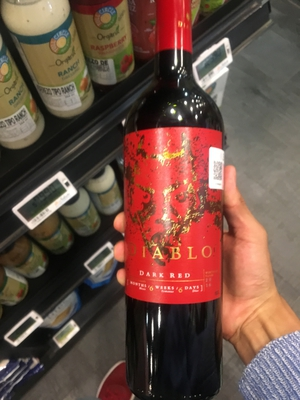diablo dark red: (120, 30, 235, 392)
